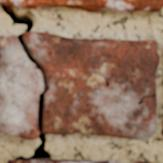brick: (0, 0, 162, 12), (8, 159, 118, 162)
broken_brick: (24, 31, 160, 139), (0, 34, 41, 140)
crack: (0, 2, 51, 160), (137, 93, 156, 106), (0, 43, 1, 69)
